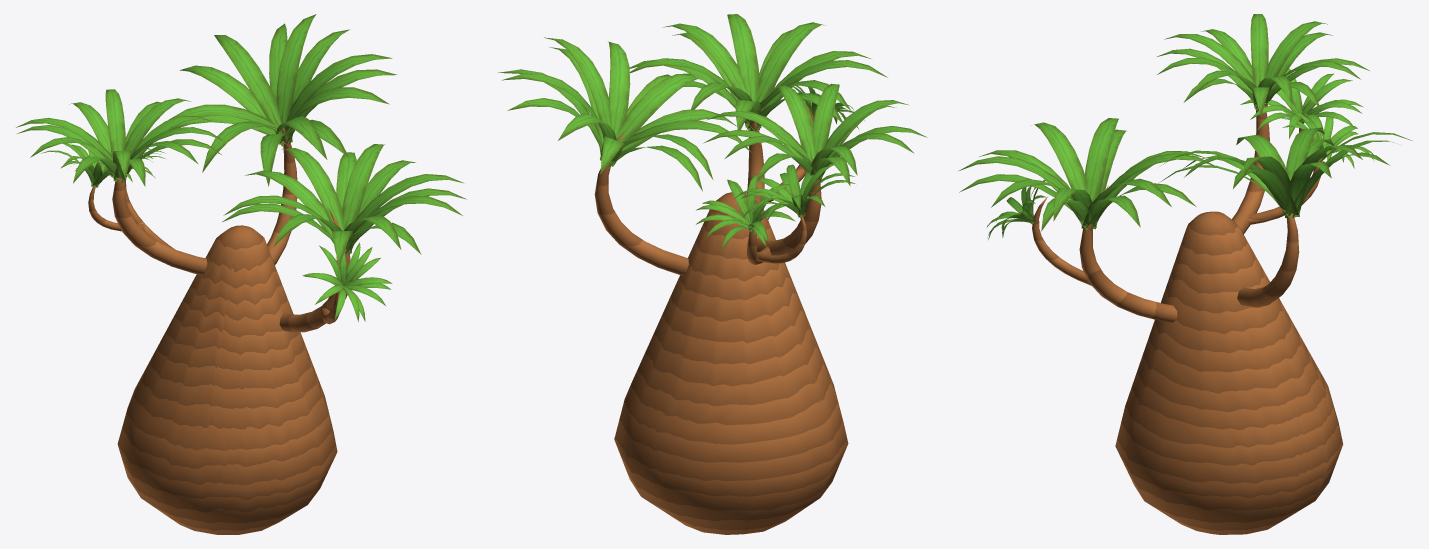
Rendered from PalmTree.fbx.
3 views of the same model, side by side, from view 1: azimuth 30°, elevation 25°; view 2: azimuth 150°, elevation 25°; view 3: azimuth 270°, elevation 25° (orthographic). The views are drawn at different scales.
Parts seen in each view (by area): view 1: PalmTree_Low; view 2: PalmTree_Low; view 3: PalmTree_Low.
Part boxes in pixels (x1,y1,x2,y2): PalmTree_Low: [16, 14, 466, 534]; PalmTree_Low: [498, 14, 927, 534]; PalmTree_Low: [959, 14, 1412, 534].
Bounding box in the file's own units: 4.04 × 4.5 × 4.33.
